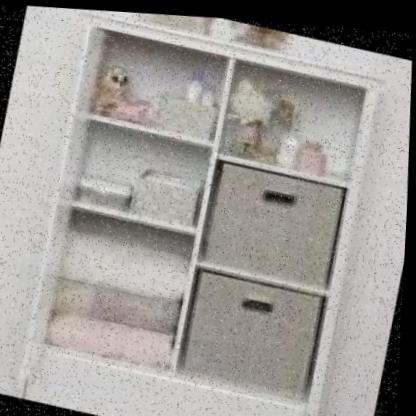Closet: (0, 1, 402, 416)
